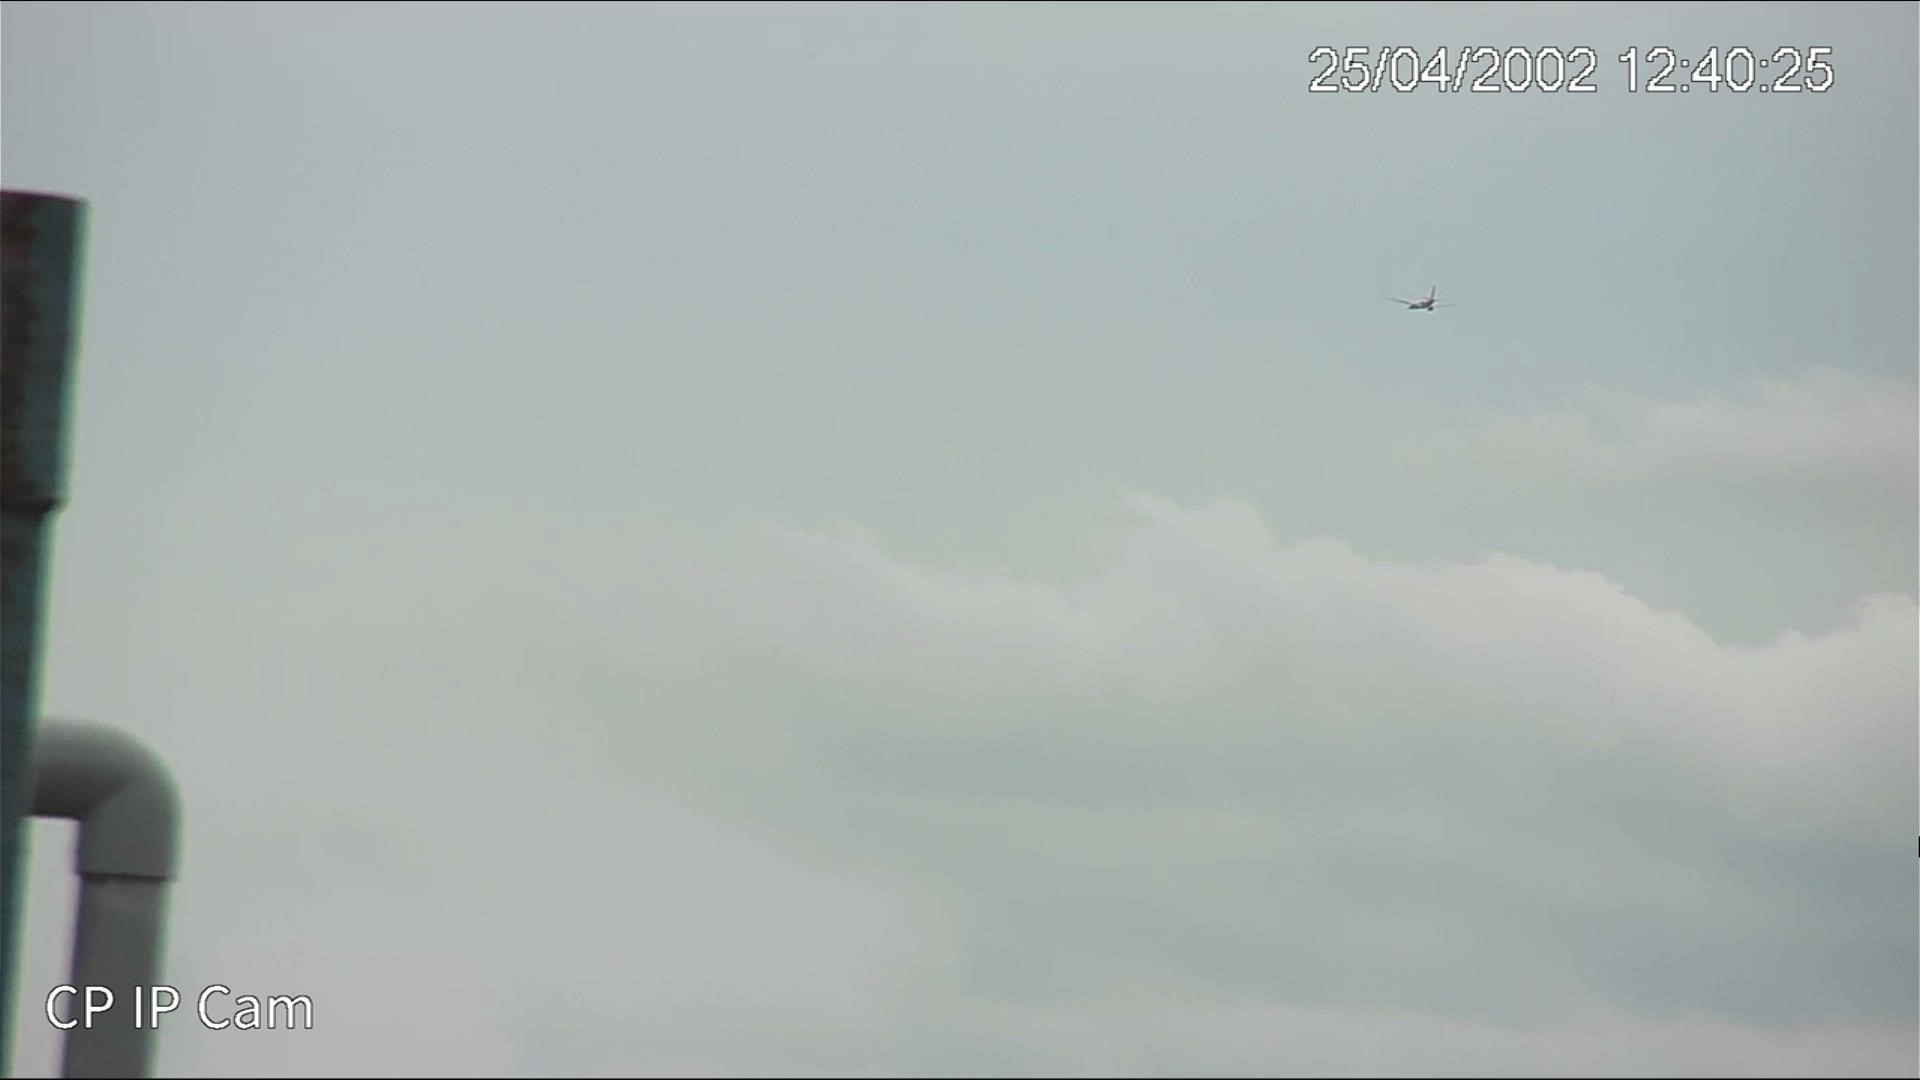SU_30: (1391, 291, 1447, 314)
